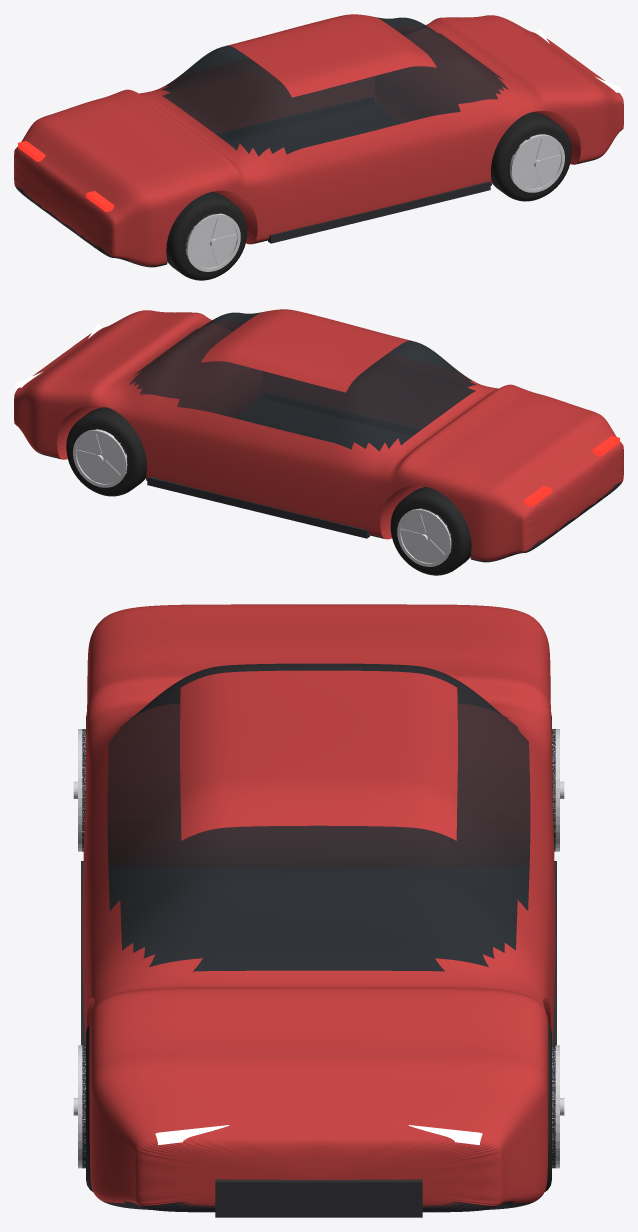
File: saloon.glb
3 renders of one model, top to bottom at view 1: azimuth 30°, elevation 25°; view 2: azimuth 150°, elevation 25°; view 3: azimuth 270°, elevation 25°, orthographic. The views are drawn at different scales.
Visible parts, largest first — view 1: Body, Cylinder.012, Cylinder.004, Cube.030, Cylinder.014, Cylinder.006, Cube.029; view 2: Body, Cylinder.008, Cylinder, Cube.029, Cylinder.010, Cylinder.002, Cube.030; view 3: Body, Cube.028.
Part boxes in pixels (x1,y1,x2,y2): Body: (14,14,623,267); Cylinder.012: (491,112,571,201); Cylinder.004: (166,191,247,280); Cube.030: (268,181,490,243); Cylinder.014: (510,134,564,192); Cylinder.006: (185,213,240,271); Cube.029: (216,97,373,140); Body: (14,309,623,562); Cylinder.008: (66,407,146,496); Cylinder: (390,486,471,575); Cube.029: (147,476,369,538); Cylinder.010: (73,429,127,487); Cylinder.002: (397,508,451,566); Cube.030: (264,392,421,435); Body: (82,604,555,1212); Cube.028: (215,1179,422,1217).
Bounding box in the file's own units: 4.97 × 1.38 × 2.01.
